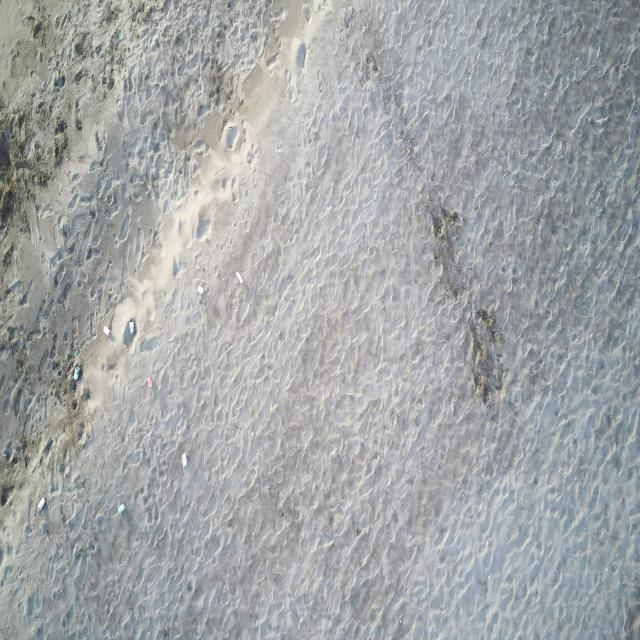Garbage: (123, 319, 136, 347), (36, 496, 44, 511), (128, 319, 135, 335), (72, 366, 80, 379), (181, 452, 187, 467), (63, 464, 70, 475), (116, 504, 124, 513), (145, 376, 151, 387), (103, 326, 110, 335), (196, 284, 203, 293), (236, 271, 241, 283)
